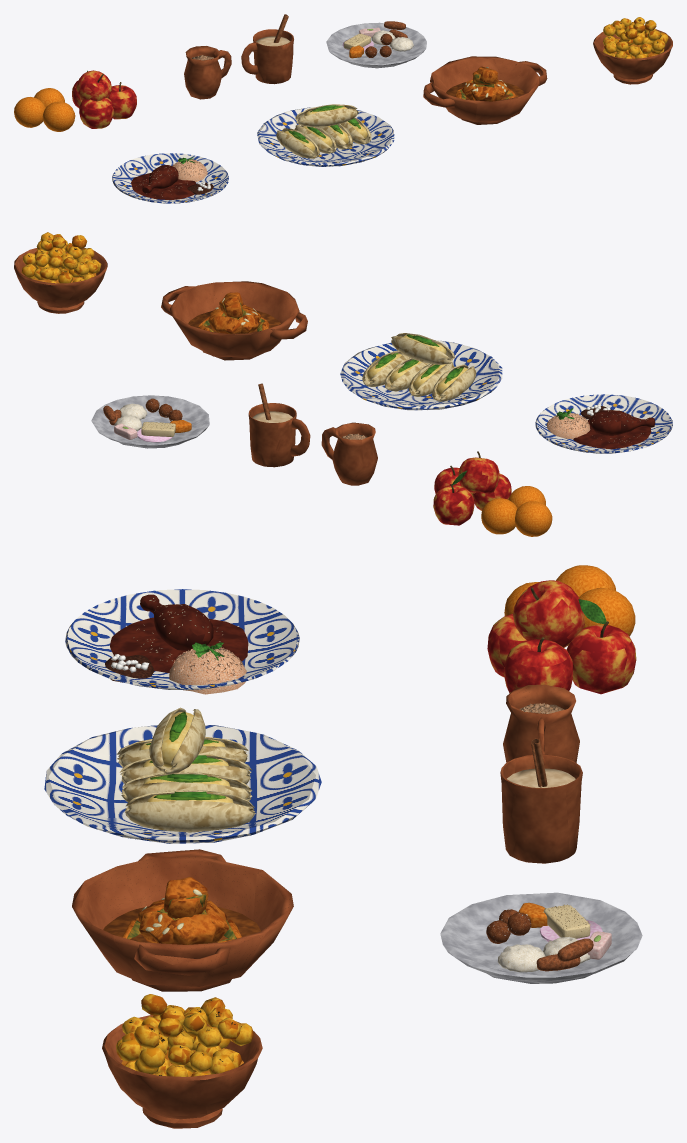
File: platillos_altar_lod.obj
3 renders of one model, top to bottom at view 1: azimuth 30°, elevation 25°; view 2: azimuth 150°, elevation 25°; view 3: azimuth 270°, elevation 25°, orthographic. The views are drawn at different scales.
Parts seen in each view (by area): view 1: DulceCalabaza_Cazuela, Tamales_Plato, Tamales_Hojas, Fruta_Manzanas, Mole_Plato, DulceTejocote_Tejocotes, Dulces_Charola, Atole_Jarro, Fruta_Naranjas, Chocolate_Jarrito, DulceTejocote_Tazon, Mole_Mole (+6 smaller); view 2: DulceCalabaza_Cazuela, Tamales_Plato, Tamales_Hojas, Fruta_Manzanas, Mole_Plato, DulceTejocote_Tejocotes, Atole_Jarro, Dulces_Charola, Fruta_Naranjas, Chocolate_Jarrito, DulceTejocote_Tazon, Mole_Mole (+5 smaller); view 3: DulceCalabaza_Cazuela, Tamales_Plato, Fruta_Manzanas, Tamales_Hojas, Mole_Plato, Dulces_Charola, DulceTejocote_Tejocotes, Atole_Jarro, DulceTejocote_Tazon, Mole_Mole, Chocolate_Jarrito, DulceCalabaza_Calabaza (+10 smaller).
Boxes of the visible parts, x1,y1,x2,y2 form: DulceCalabaza_Cazuela: (423, 56, 547, 124); Tamales_Plato: (257, 107, 394, 166); Tamales_Hojas: (276, 104, 371, 158); Fruta_Manzanas: (72, 70, 136, 128); Mole_Plato: (112, 153, 228, 203); DulceTejocote_Tejocotes: (603, 17, 668, 58); Dulces_Charola: (326, 22, 426, 68); Atole_Jarro: (241, 29, 293, 84); Fruta_Naranjas: (14, 88, 75, 131); Chocolate_Jarrito: (184, 46, 231, 99); DulceTejocote_Tazon: (593, 29, 672, 84); Mole_Mole: (131, 165, 196, 199); DulceCalabaza_Cazuela: (161, 281, 307, 360); Tamales_Plato: (340, 340, 502, 410); Tamales_Hojas: (362, 333, 476, 401); Fruta_Manzanas: (433, 457, 511, 525); Mole_Plato: (535, 394, 672, 453); DulceTejocote_Tejocotes: (21, 232, 101, 283); Atole_Jarro: (248, 403, 310, 467); Dulces_Charola: (91, 395, 209, 448); Fruta_Naranjas: (481, 486, 552, 536); Chocolate_Jarrito: (321, 422, 377, 485); DulceTejocote_Tazon: (14, 247, 107, 313); Mole_Mole: (573, 410, 655, 449); DulceCalabaza_Cazuela: (72, 849, 293, 991); Tamales_Plato: (44, 725, 321, 843); Fruta_Manzanas: (487, 580, 636, 694); Tamales_Hojas: (117, 707, 255, 832); Mole_Plato: (65, 589, 299, 689); Dulces_Charola: (440, 892, 642, 983); DulceTejocote_Tejocotes: (116, 994, 253, 1076); Atole_Jarro: (500, 749, 582, 863); DulceTejocote_Tazon: (102, 1015, 262, 1128); Mole_Mole: (110, 594, 248, 672); Chocolate_Jarrito: (503, 684, 579, 762); DulceCalabaza_Calabaza: (122, 877, 241, 944).
Bounding box in the file's own units: 1.49 × 0.1574 × 0.7001.
38 materials, 38 textured.
